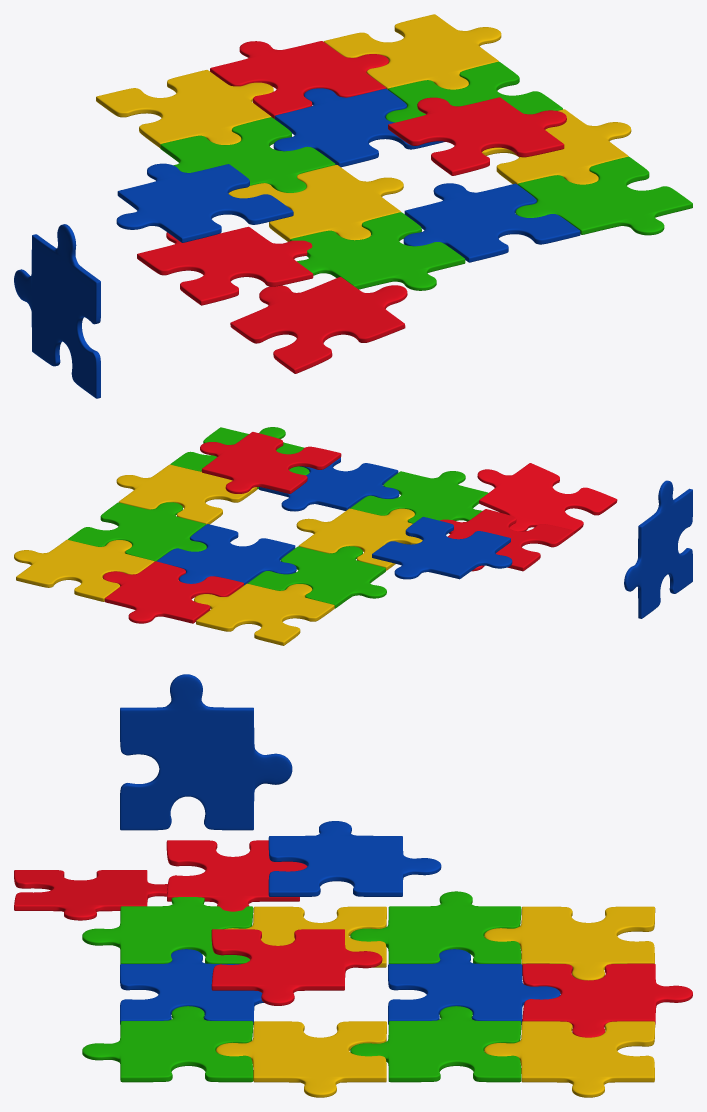
The model's file is Puzzle.fbx.
3 views of the same model, one above another, from view 1: azimuth 30°, elevation 25°; view 2: azimuth 150°, elevation 25°; view 3: azimuth 270°, elevation 25° (orthographic). The views are drawn at different scales.
Visible parts, largest first — view 1: Plane.004, Plane.005, Plane.009, Plane.008, Plane.013, Plane.014, Plane.012, Plane.007, Plane.016, Plane.006, Plane.015, Plane.003 (+4 smaller); view 2: Plane.005, Plane.004, Plane.009, Plane.008, Plane.007, Plane.016, Plane.015, Plane.010, Plane.017, Plane.018, Plane.011, Plane.006 (+4 smaller); view 3: Plane.005, Plane.009, Plane.008, Plane.015, Plane.014, Plane.011, Plane.018, Plane.016, Plane.007, Plane.017, Plane.010, Plane.006 (+4 smaller).
Part boxes in pixels (box(x1,y1,x2,y2)): Plane.004: box(230, 277, 407, 373); Plane.005: box(14, 224, 100, 398); Plane.009: box(116, 163, 293, 242); Plane.008: box(388, 97, 566, 175); Plane.013: box(403, 183, 580, 262); Plane.014: box(515, 156, 692, 235); Plane.012: box(137, 226, 313, 305); Plane.007: box(96, 70, 273, 147); Plane.016: box(210, 41, 388, 118); Plane.006: box(290, 212, 465, 290); Plane.015: box(323, 14, 501, 89); Plane.003: box(228, 165, 403, 241); Plane.005: box(624, 480, 692, 618); Plane.004: box(477, 463, 617, 533); Plane.009: box(372, 517, 512, 579); Plane.008: box(200, 432, 341, 493); Plane.007: box(194, 583, 334, 645); Plane.016: box(103, 561, 243, 623); Plane.015: box(14, 539, 154, 601); Plane.010: box(247, 546, 386, 608); Plane.017: box(156, 524, 296, 585); Plane.018: box(67, 502, 206, 561); Plane.011: box(116, 464, 257, 524); Plane.006: box(350, 471, 488, 523); Plane.005: box(120, 674, 292, 830); Plane.009: box(268, 821, 441, 896); Plane.008: box(211, 929, 382, 1005); Plane.015: box(484, 1021, 655, 1097); Plane.014: box(82, 1006, 253, 1082); Plane.011: box(216, 1021, 386, 1097); Plane.018: box(350, 1006, 521, 1082); Plane.016: box(522, 963, 692, 1037); Plane.007: box(484, 906, 655, 980); Plane.017: box(388, 949, 560, 1024); Plane.010: box(350, 891, 521, 963); Plane.006: box(82, 897, 253, 964).
Size of the model in its own units: 239 by 54.41 by 217.
